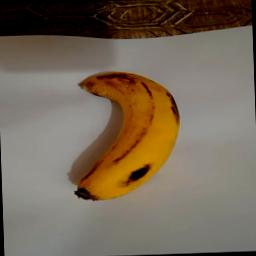Banana Unripe: (67, 68, 184, 203)
